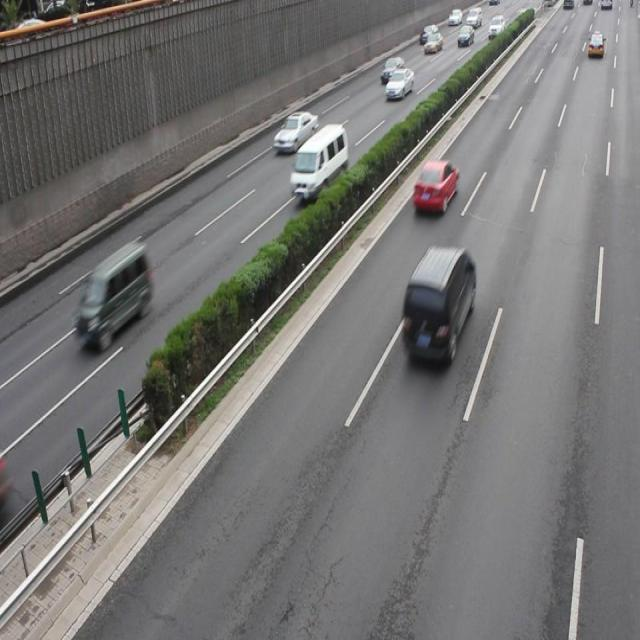car: (411, 158, 458, 216), (272, 108, 318, 155)
truck: (400, 243, 474, 365), (74, 241, 152, 349), (288, 122, 348, 199)
